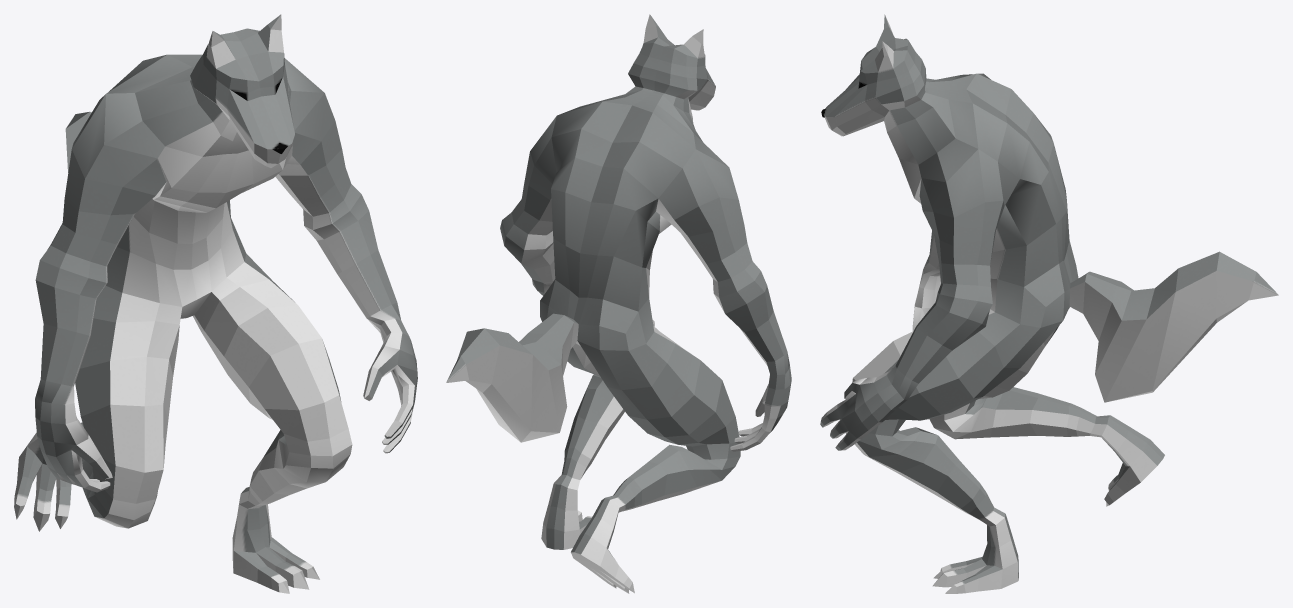
The model's file is WolfWalk(18).obj.
3 views of the same model, side by side, from view 1: azimuth 30°, elevation 25°; view 2: azimuth 150°, elevation 25°; view 3: azimuth 270°, elevation 25° (orthographic). The views are drawn at different scales.
Visible parts, largest first — view 1: Box001; view 2: Box001; view 3: Box001.
Part boxes in pixels (box(x1,y1,x2,y2)): Box001: box(14, 14, 417, 593); Box001: box(446, 14, 791, 593); Box001: box(820, 14, 1278, 593).
Size of the model in its own units: 75 by 128 by 102.
